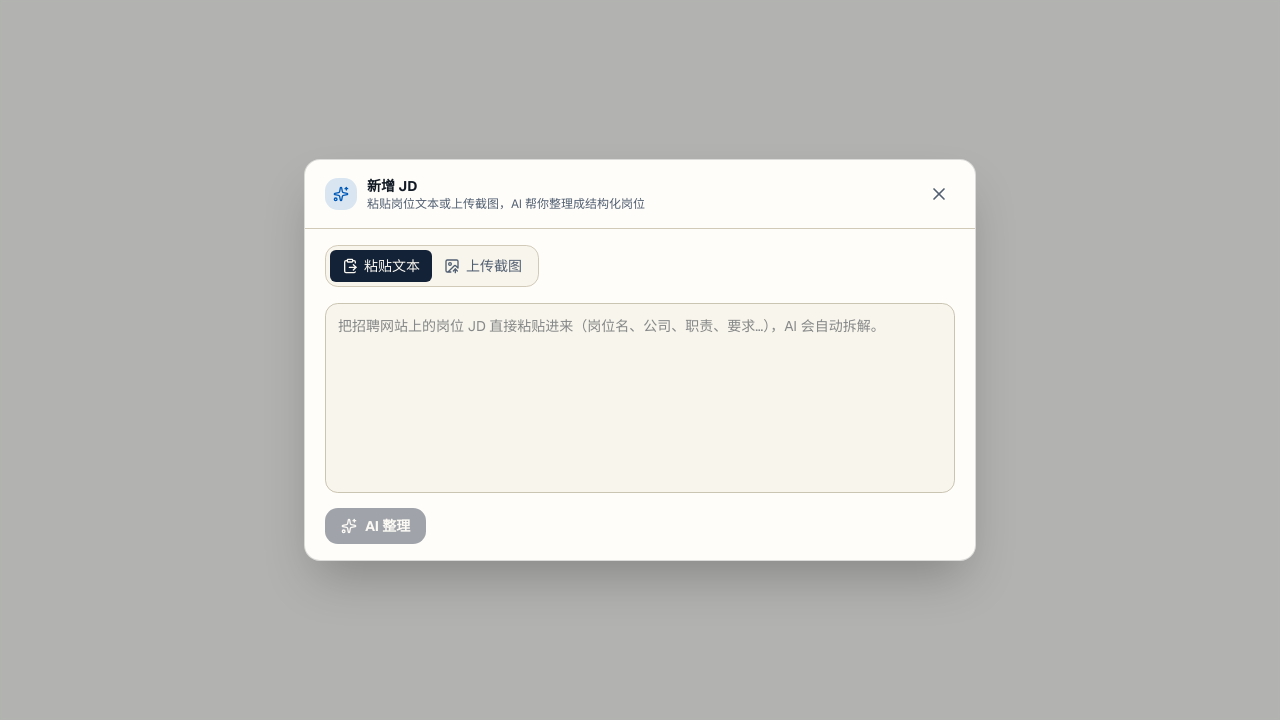
Test: CreateJdModal 容器失败接线 › 解析超时映射为「解析超时，请重试。」且不泄露机器码
Type "高级前端工程师" into the text box.
click(640, 398); type("高级前端工程师")  # box [325, 303, 955, 493]
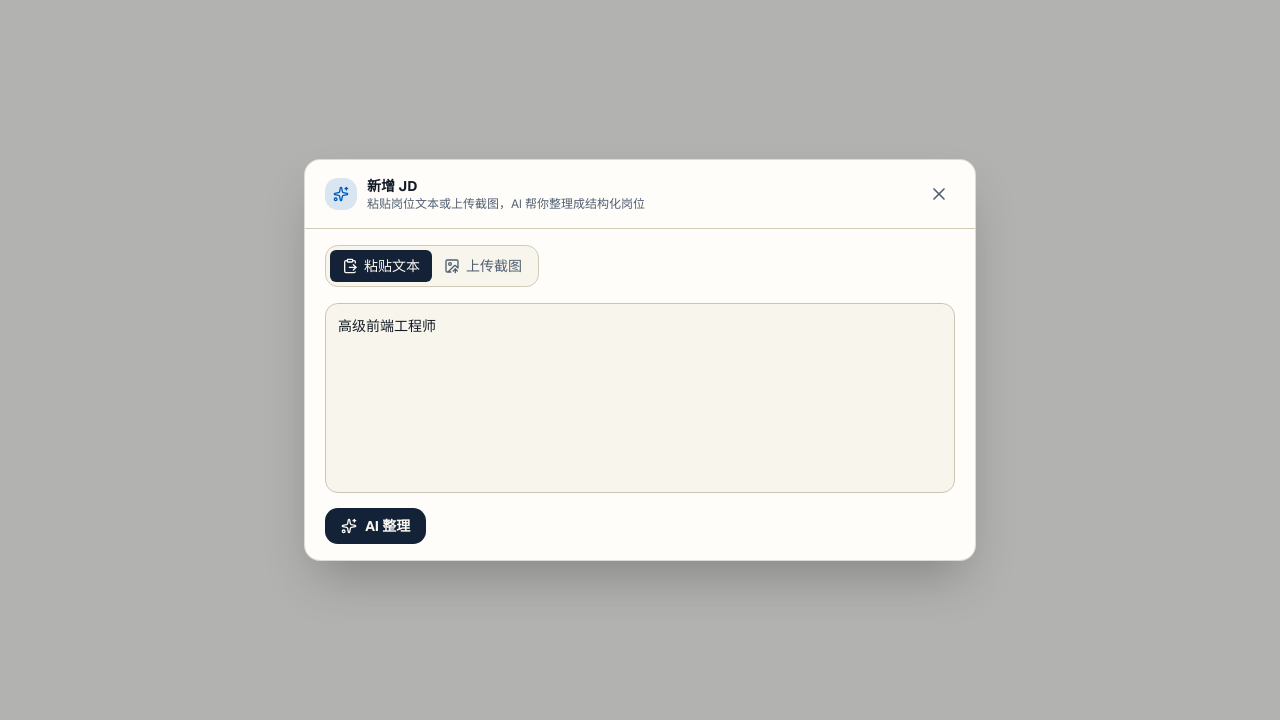
Click the button "AI 整理".
click(376, 526)  # box [325, 508, 426, 544]
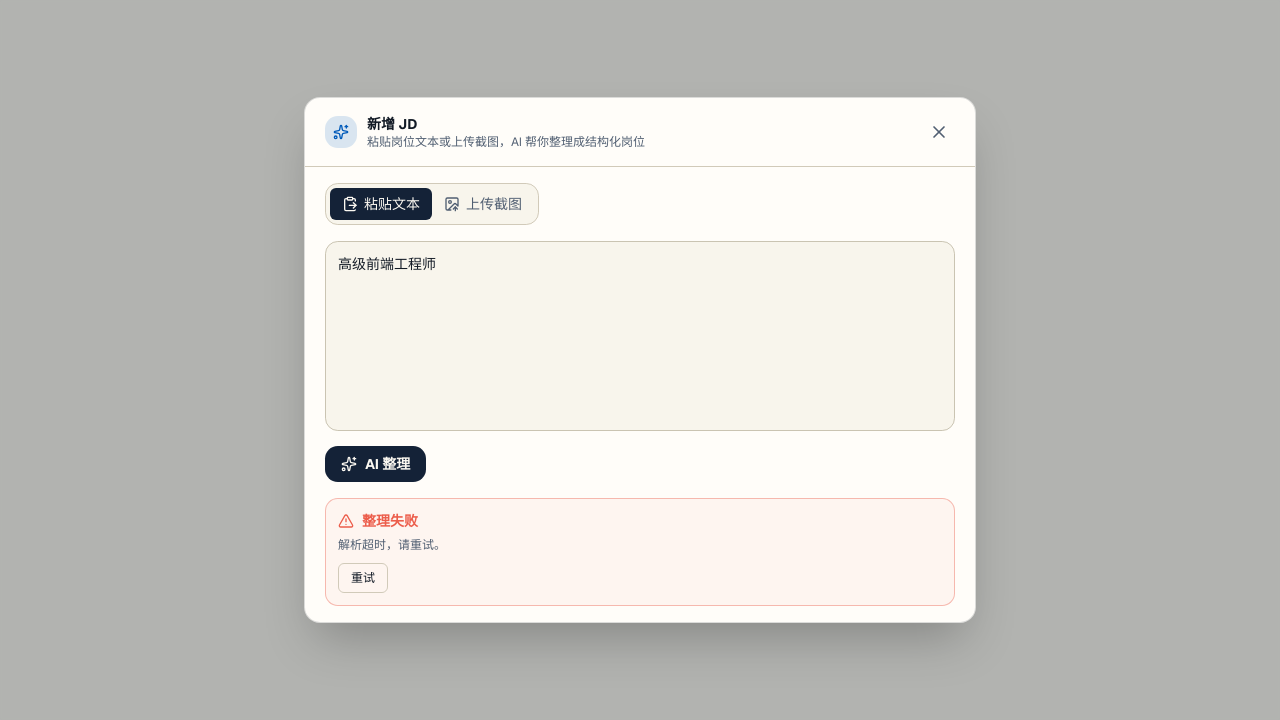
Check: the message shows "解析超时，请重试。", box [338, 537, 446, 553]
